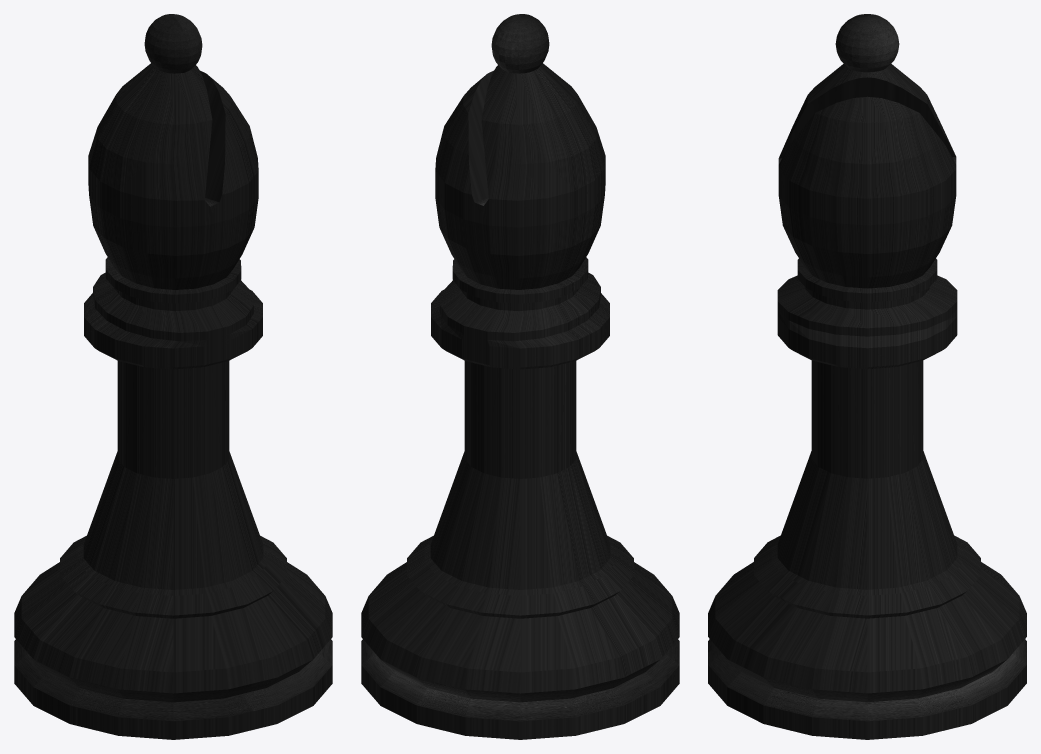
Rendered from b_bishop_1.obj.
3 renders of one model, left to right at view 1: azimuth 30°, elevation 25°; view 2: azimuth 150°, elevation 25°; view 3: azimuth 270°, elevation 25°, orthographic.
Size of the model in its own units: 0.1443 by 0.3286 by 0.1422.
Materials: 1 (1 with a texture image).
